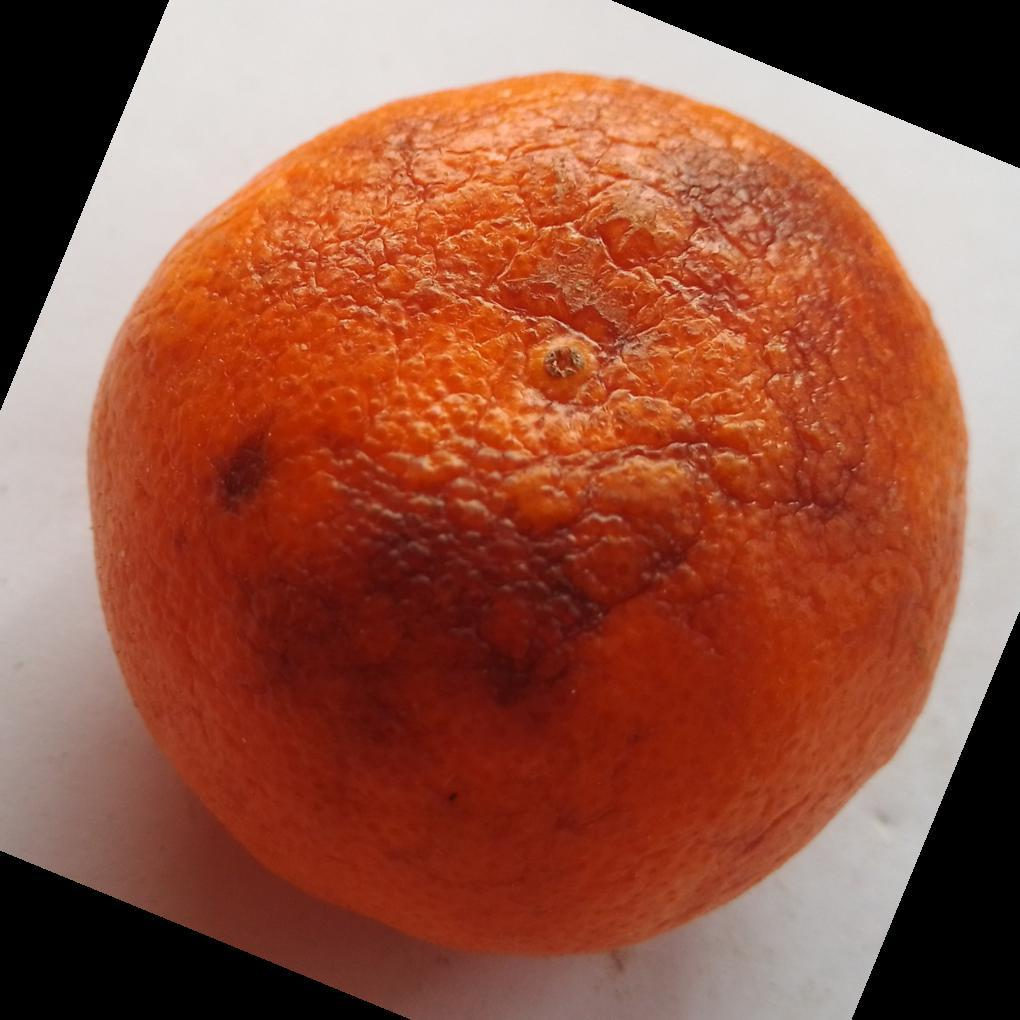FreshOrange: (83, 71, 971, 963)
